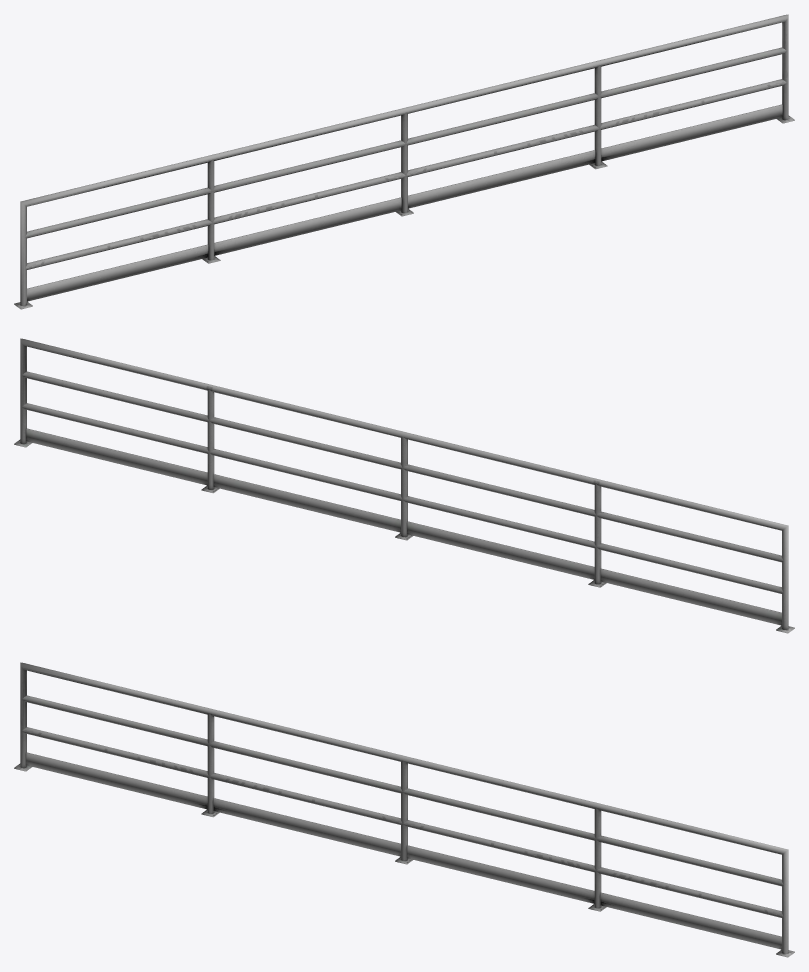
The picture shows the model from 3 angles, top to bottom: view 1: azimuth 30°, elevation 25°; view 2: azimuth 150°, elevation 25°; view 3: azimuth 330°, elevation 25°; orthographic projection.
Visible parts, largest first — view 1: body0_model0_lod0_mesh0; view 2: body0_model0_lod0_mesh0; view 3: body0_model0_lod0_mesh0.
Part boxes in pixels (box(x1,y1,x2,y2)): body0_model0_lod0_mesh0: box(14, 14, 794, 309); body0_model0_lod0_mesh0: box(14, 338, 794, 633); body0_model0_lod0_mesh0: box(14, 662, 794, 957).
Size of the model in its own units: 256 by 33 by 4.
1 material, 1 textured.
